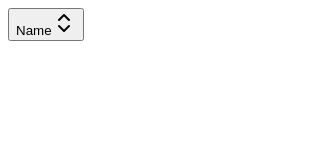
it: DataTableColumnHeader › Sortable column › shows sort menu on click
The image size is (320, 160).
Click the button.
click(46, 24)  # box [8,8,84,41]
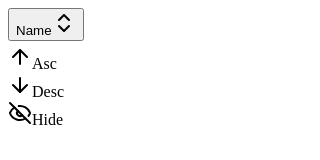
Now the menu item "Asc" is shown, box [8,45,64,73]
Now the menu item "Desc" is shown, box [8,73,64,101]
